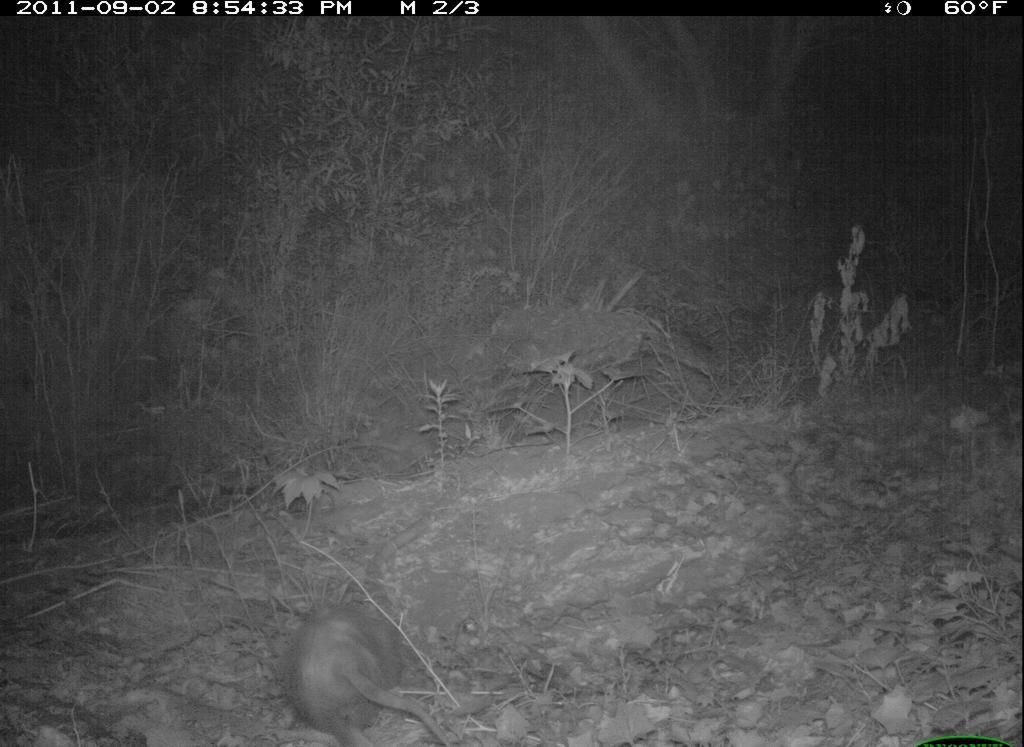opossum: (276, 588, 462, 747)
